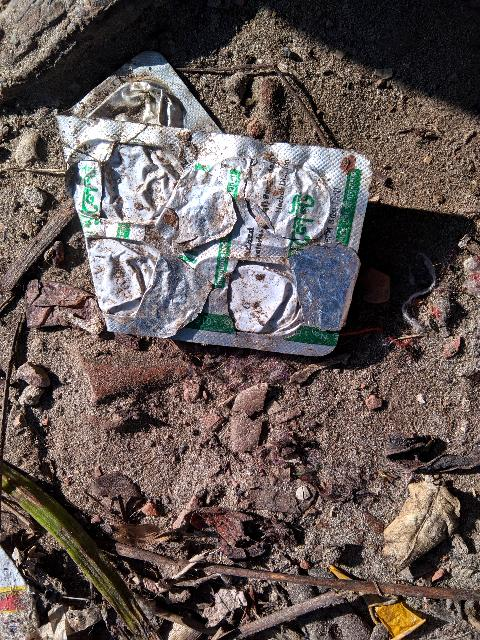medicine: (19, 111, 393, 368)
